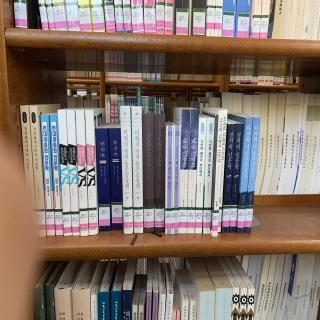book-spine: (29, 105, 46, 237), (20, 106, 37, 237), (244, 117, 260, 233), (237, 118, 253, 233), (49, 114, 64, 235), (58, 109, 72, 236), (66, 110, 80, 235), (41, 115, 55, 236), (120, 106, 133, 234), (96, 128, 111, 231), (108, 128, 123, 230), (221, 124, 235, 233), (76, 110, 88, 236), (131, 107, 143, 233), (85, 110, 97, 235), (187, 109, 199, 234), (230, 123, 243, 233), (213, 110, 224, 237), (203, 118, 215, 234), (179, 109, 190, 233), (143, 114, 154, 233), (154, 114, 165, 233), (195, 118, 206, 233), (217, 109, 227, 232), (172, 126, 180, 234), (166, 126, 173, 234)
